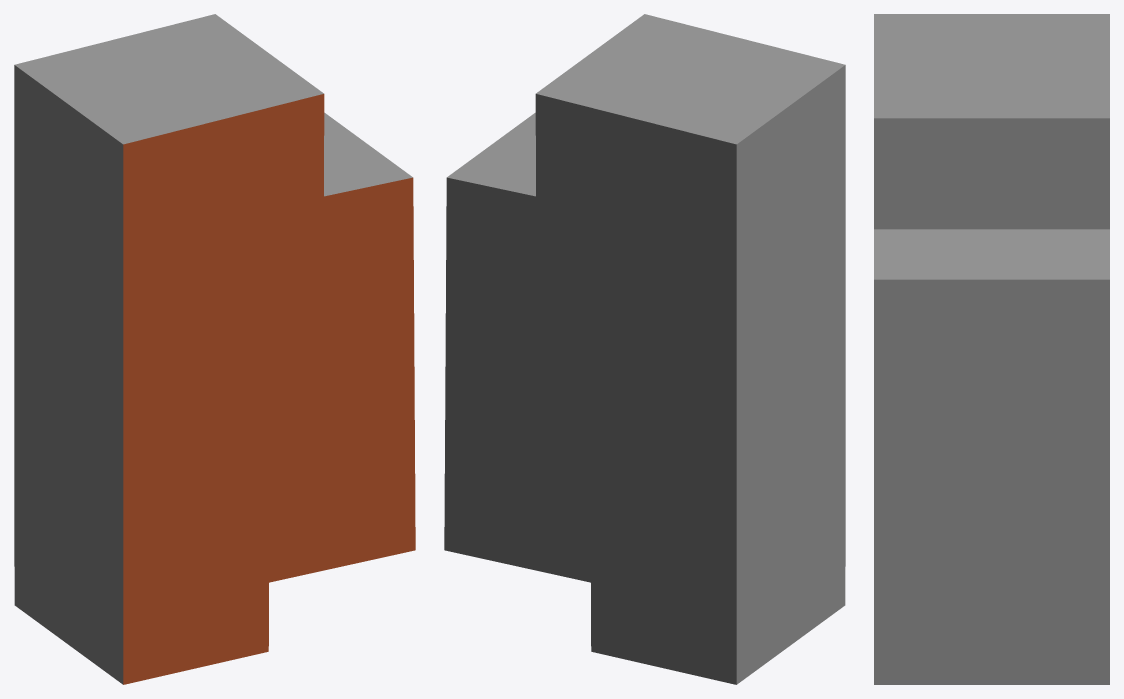
Rendered from construction_0843_assumed_A_Casa_h6m.obj.
3 views of the same model, side by side, from view 1: azimuth 30°, elevation 25°; view 2: azimuth 150°, elevation 25°; view 3: azimuth 270°, elevation 25° (orthographic). The views are drawn at different scales.
Parts seen in each view (by area): view 1: construction_0843_assumed_A_Casa; view 2: construction_0843_assumed_A_Casa; view 3: construction_0843_assumed_A_Casa.
Part boxes in pixels (box(x1,y1,x2,y2)): construction_0843_assumed_A_Casa: box(14, 14, 415, 684); construction_0843_assumed_A_Casa: box(444, 14, 845, 684); construction_0843_assumed_A_Casa: box(874, 14, 1109, 684).
Size of the model in its own units: 9.3 by 16.55 by 6.
